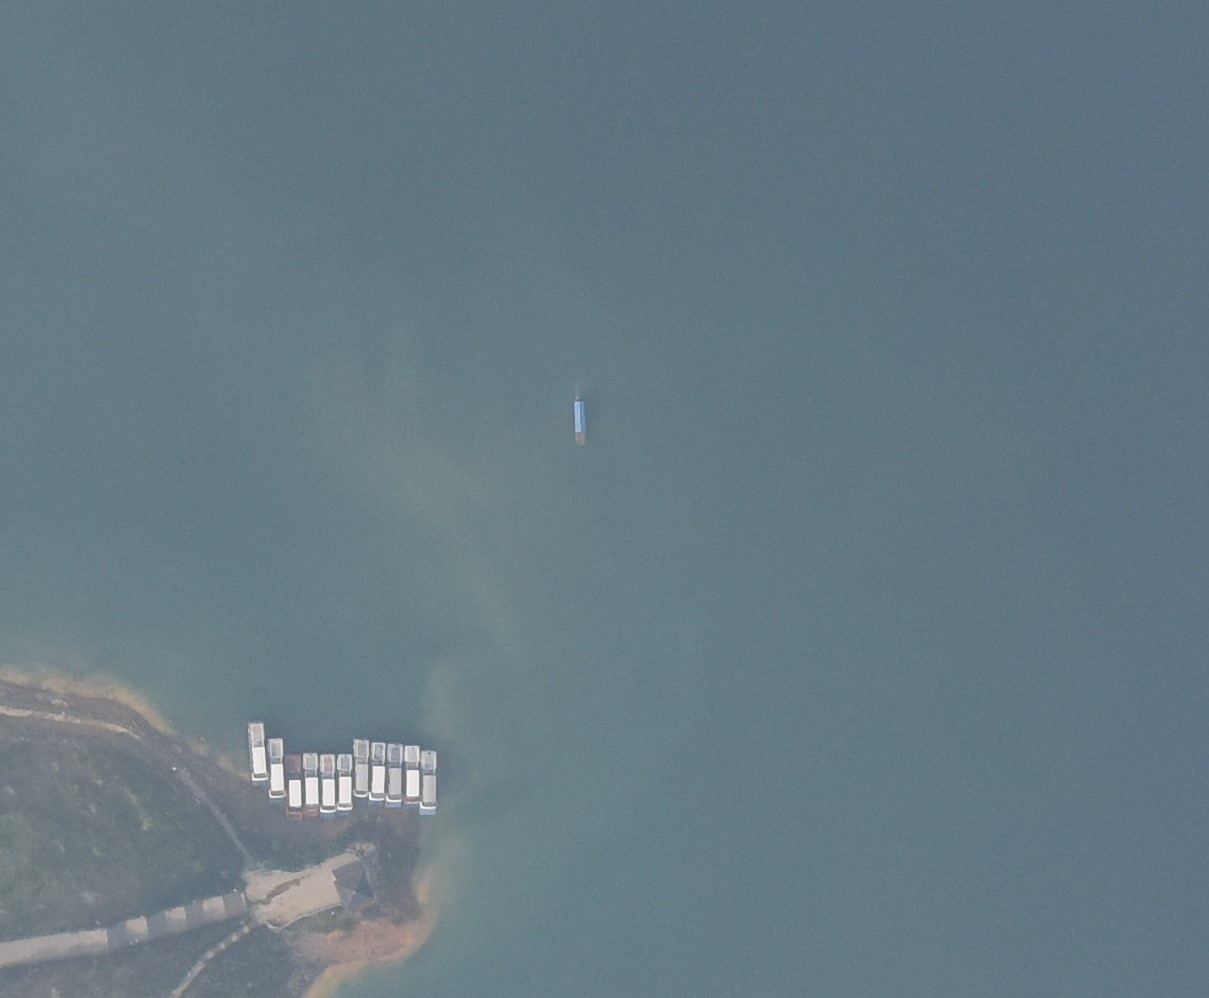building: (328, 859, 382, 913)
ship: (279, 752, 306, 824), (246, 714, 270, 789), (315, 748, 338, 826), (383, 737, 407, 811), (569, 396, 598, 453), (299, 744, 321, 819), (348, 734, 371, 802), (366, 737, 389, 805), (332, 746, 354, 817), (266, 735, 287, 808), (418, 748, 440, 817), (401, 742, 419, 809)
